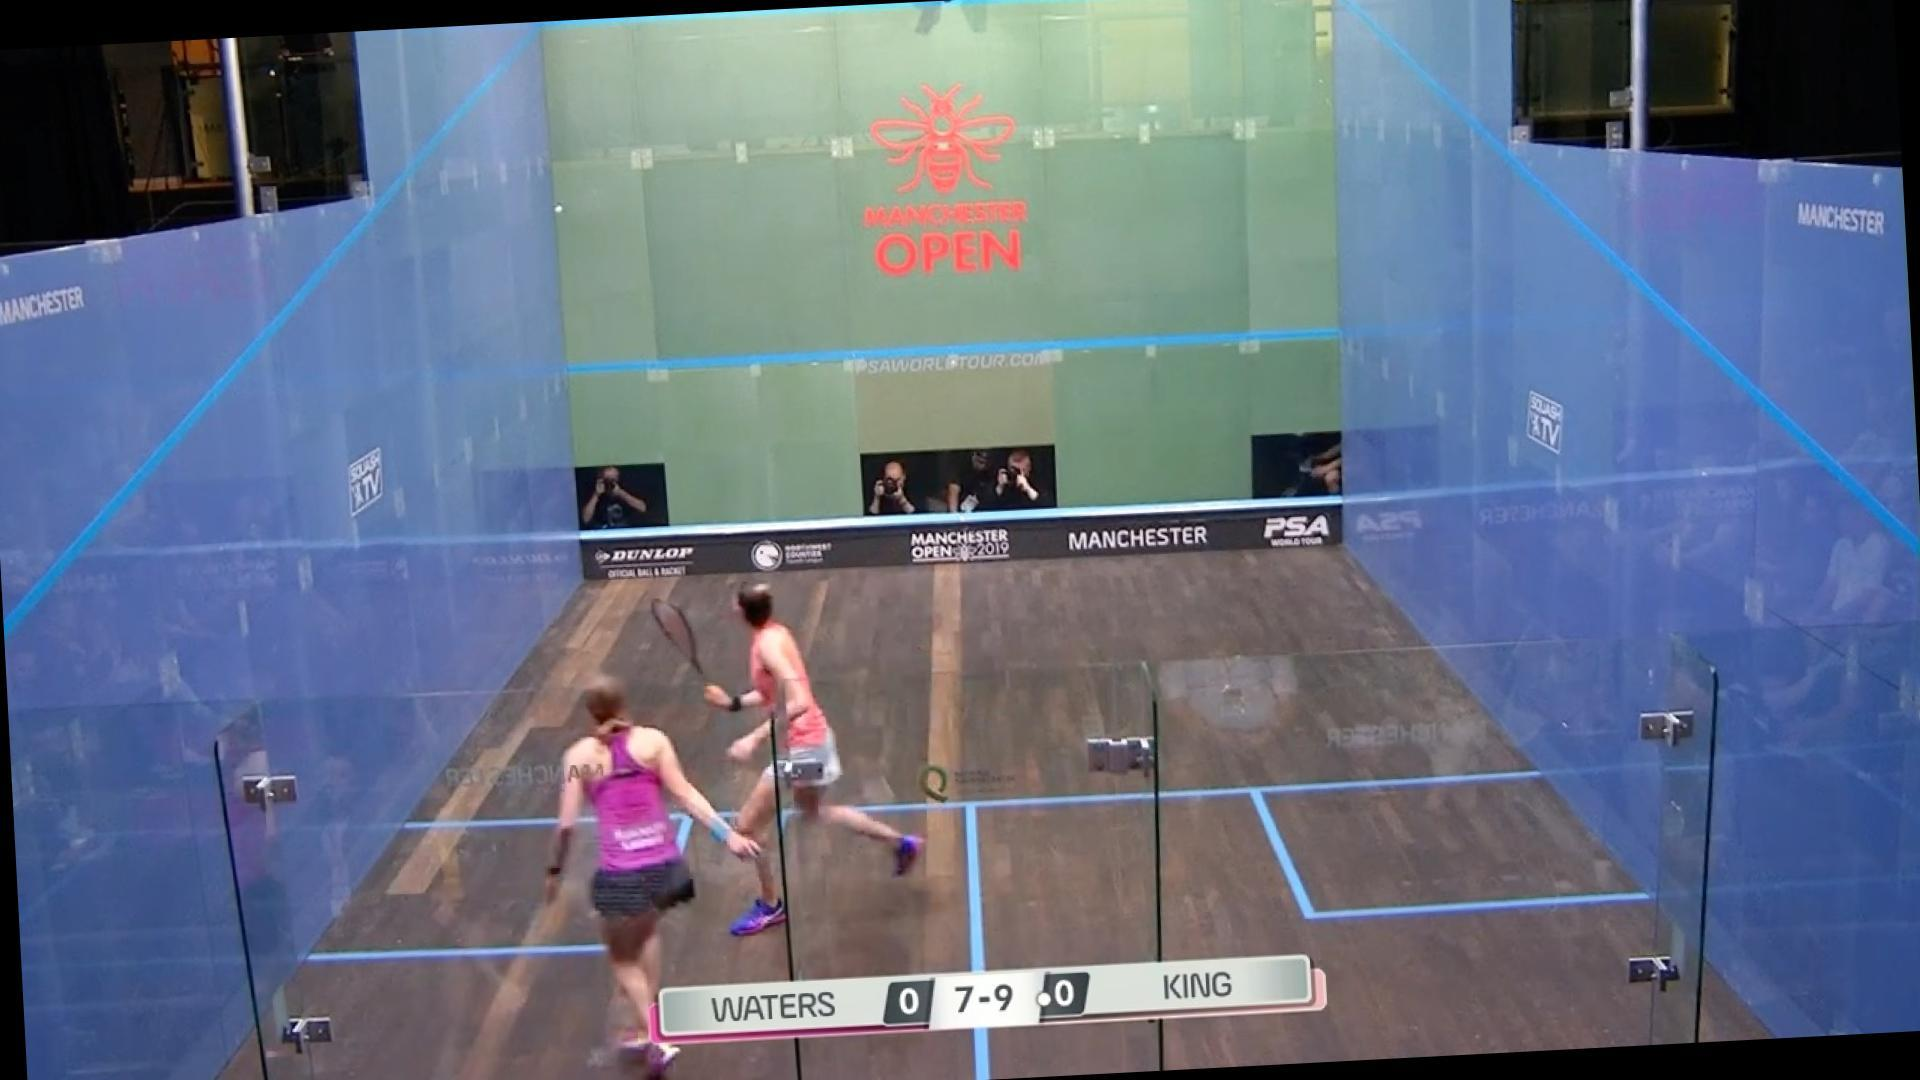Squash-Ball: (538, 190, 588, 236)
